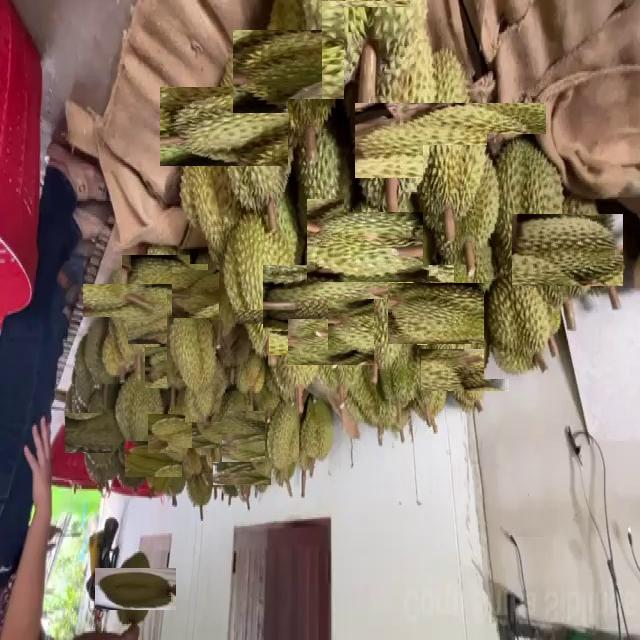durian: (344, 7, 437, 212), (188, 59, 326, 195), (384, 73, 517, 207), (323, 183, 439, 298), (246, 16, 357, 127), (219, 212, 301, 358), (487, 134, 566, 279), (311, 0, 420, 102), (190, 118, 256, 264), (278, 249, 376, 346), (423, 144, 502, 264), (288, 98, 354, 236), (522, 204, 614, 296), (401, 270, 491, 358), (484, 272, 552, 379), (255, 290, 340, 374), (93, 273, 175, 355), (304, 304, 381, 381), (340, 287, 416, 362), (167, 294, 220, 396), (113, 356, 166, 456), (129, 247, 201, 320), (183, 259, 252, 329), (374, 298, 417, 404), (432, 337, 498, 402), (104, 558, 166, 620), (408, 345, 452, 425), (82, 317, 128, 389), (73, 404, 131, 461), (202, 401, 258, 458), (265, 397, 302, 475), (154, 407, 207, 460), (233, 423, 285, 475), (300, 396, 338, 466), (235, 324, 269, 401), (185, 360, 227, 422), (133, 434, 184, 485), (148, 345, 195, 391), (182, 448, 213, 514), (217, 452, 261, 496)
